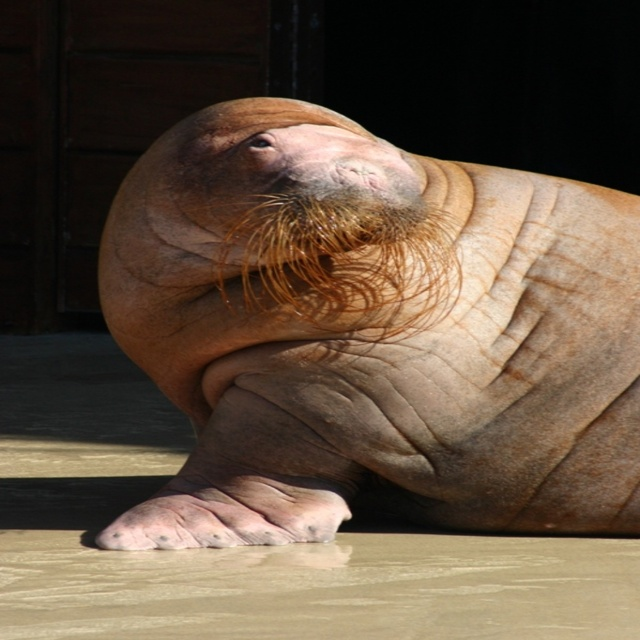Sea lion: (95, 97, 640, 551)
